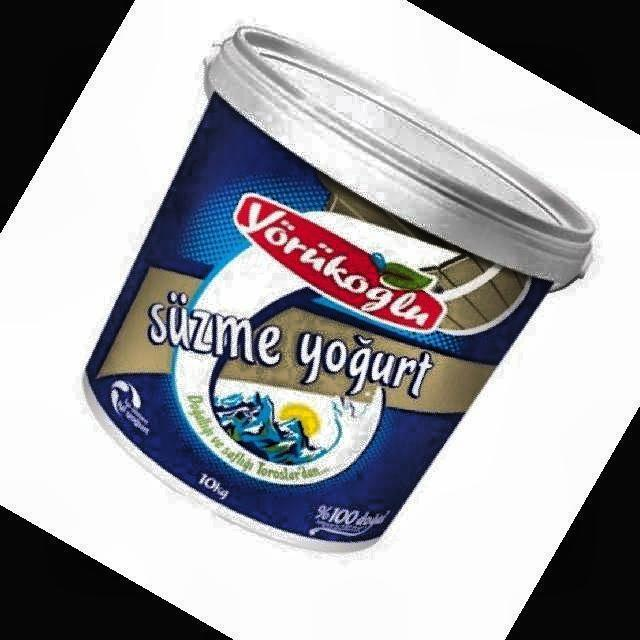plastic: (85, 28, 594, 551)
